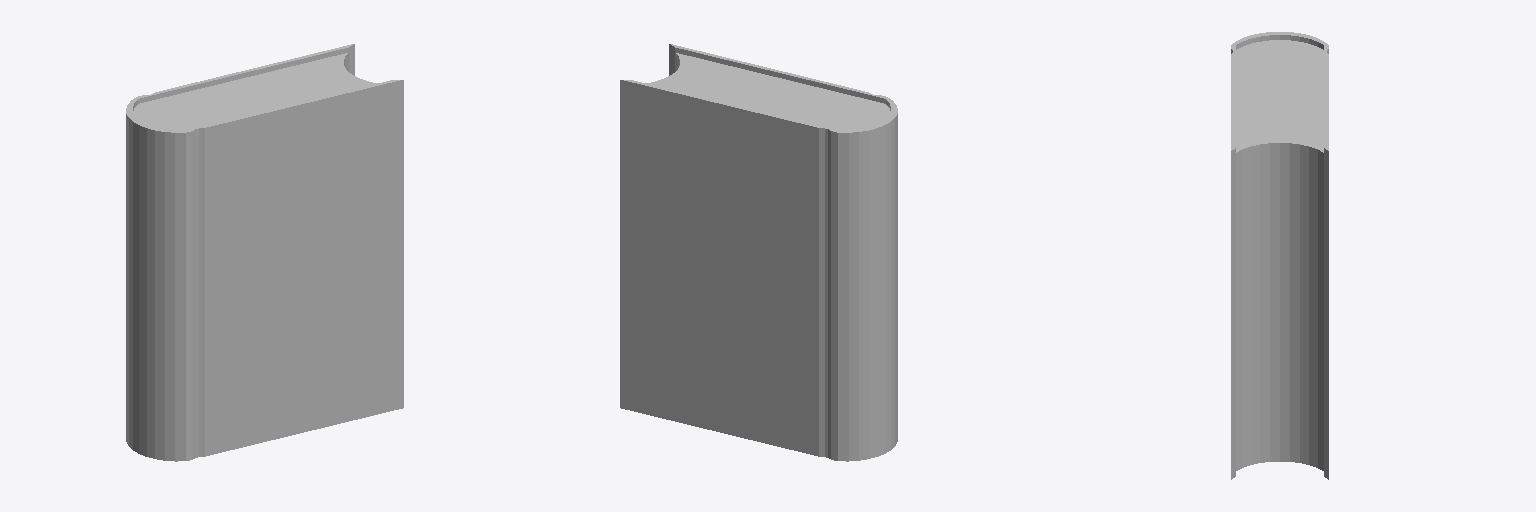
The model's file is book.obj.
3 views of the same model, side by side, from view 1: azimuth 30°, elevation 25°; view 2: azimuth 150°, elevation 25°; view 3: azimuth 270°, elevation 25° (orthographic).
Visible parts, largest first — view 1: Circle; view 2: Circle; view 3: Circle.
Boxes of the visible parts, box(x1,y1,x2,y2) form: Circle: box(126, 44, 403, 461); Circle: box(620, 44, 897, 461); Circle: box(1231, 32, 1328, 479).
Size of the model in its own units: 5.35 by 6.84 by 1.85.